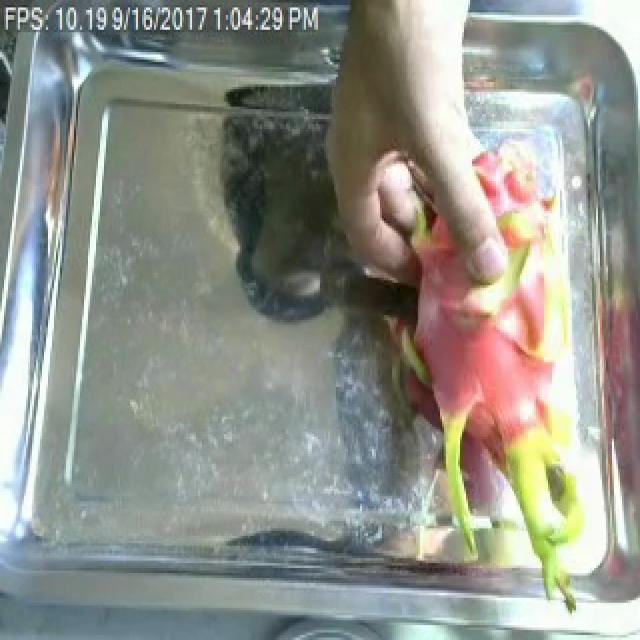fruit: (350, 210, 618, 622)
